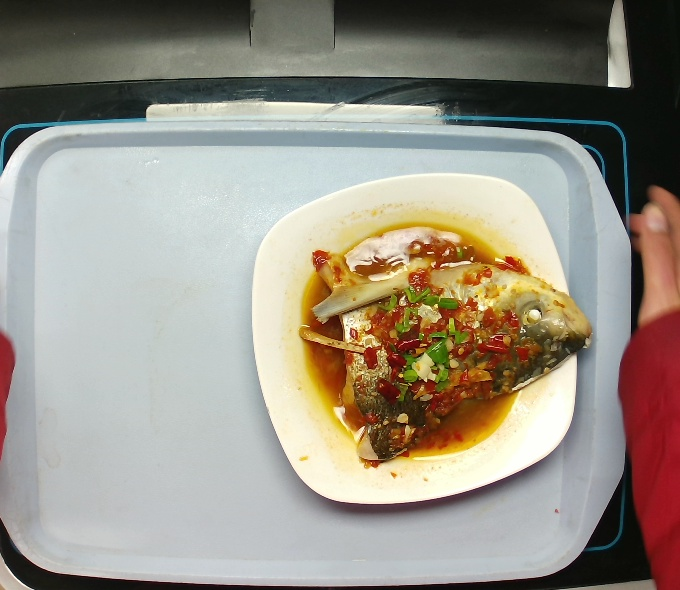wcq-DuoJiaoYuTou: (295, 220, 598, 468)
